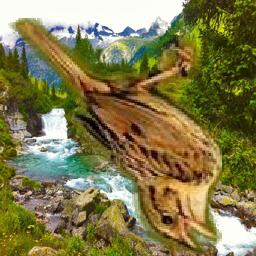Sparrow: (8, 19, 222, 256)
